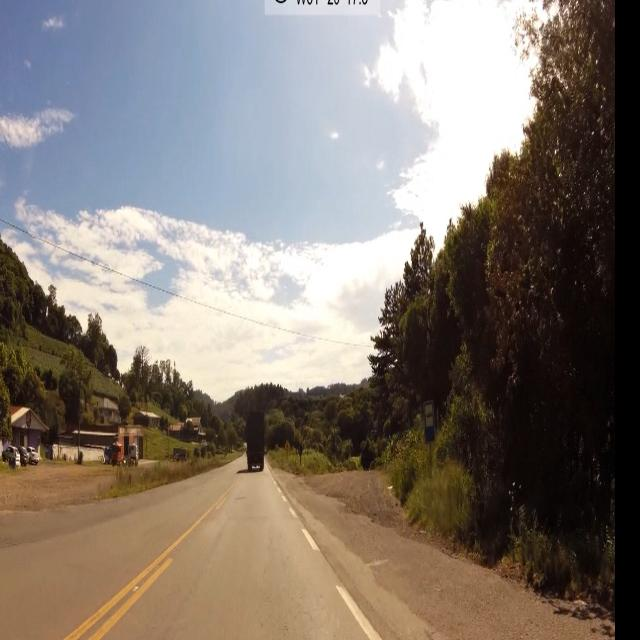S-14: (423, 401, 438, 448)
